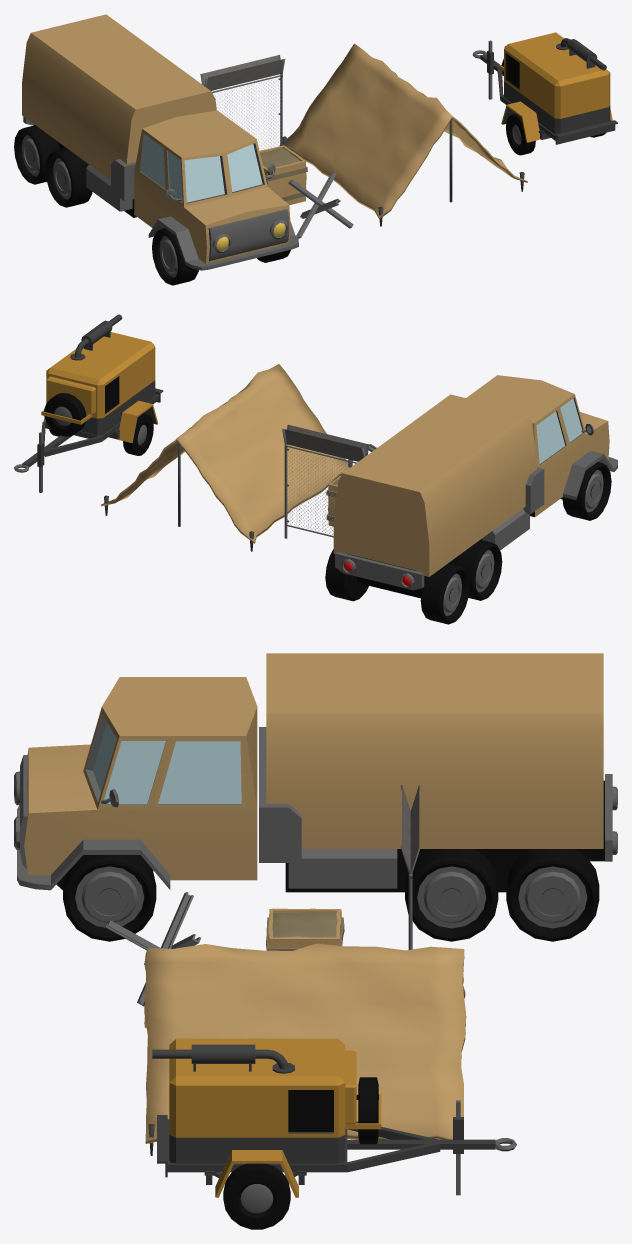
File: environment.fbx
The picture shows the model from 3 angles, top to bottom: view 1: azimuth 30°, elevation 25°; view 2: azimuth 150°, elevation 25°; view 3: azimuth 270°, elevation 25°; orthographic projection. The views are drawn at different scales.
Visible parts, largest first — view 1: Truck, Tent, Generator, Fence, Wheel_BR1, Sand_barricade, Wheel_BR2, Wheel_FR, Spike; view 2: Truck, Tent, Generator, Fence, Wheel_BR2, Wheel_BR1, Wheel_FR, Wheel_BL2; view 3: Truck, Tent, Generator, Wheel_BL2, Wheel_BL1, Wheel_FL, Sand_barricade, Fence, Spike.
Part boxes in pixels (bbox=[...]): Truck: bbox=[22, 14, 298, 270]; Tent: bbox=[279, 43, 527, 226]; Generator: bbox=[472, 32, 617, 155]; Fence: bbox=[200, 55, 285, 149]; Wheel_BR1: bbox=[45, 148, 92, 207]; Sand_barricade: bbox=[259, 145, 307, 205]; Wheel_BR2: bbox=[14, 125, 60, 184]; Wheel_FR: bbox=[152, 228, 198, 285]; Spike: bbox=[288, 172, 353, 238]; Truck: bbox=[333, 375, 617, 598]; Tent: bbox=[101, 364, 352, 551]; Generator: bbox=[14, 314, 163, 492]; Fence: bbox=[282, 424, 369, 538]; Wheel_BR2: bbox=[420, 563, 469, 624]; Wheel_BR1: bbox=[454, 540, 502, 600]; Wheel_FR: bbox=[562, 462, 611, 520]; Wheel_BL2: bbox=[325, 549, 368, 601]; Truck: bbox=[14, 653, 617, 892]; Tent: bbox=[144, 943, 466, 1155]; Generator: bbox=[152, 1038, 516, 1229]; Wheel_BL2: bbox=[506, 849, 599, 941]; Wheel_BL1: bbox=[405, 849, 498, 941]; Wheel_FL: bbox=[63, 855, 156, 941]; Sand_barricade: bbox=[266, 908, 344, 950]; Fence: bbox=[400, 785, 420, 949]; Spike: bbox=[105, 892, 200, 1006].
Bounding box in the file's own units: 2525 × 710 × 1709.
